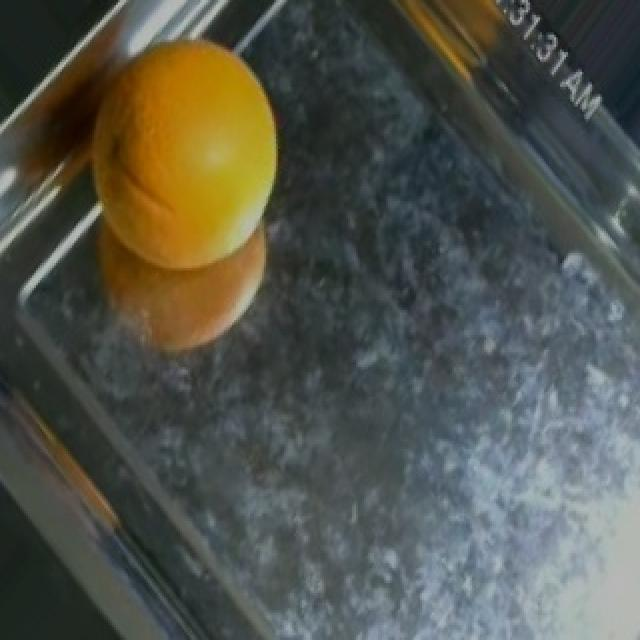Fruit: (54, 17, 304, 325)
